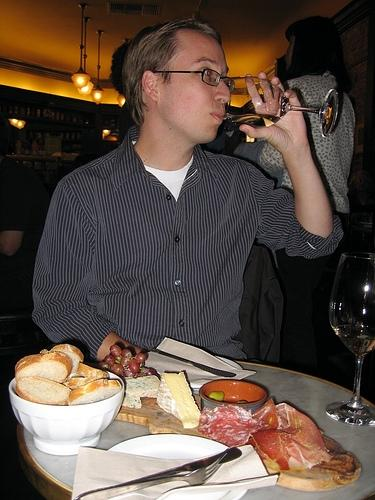grape: (128, 359, 140, 374), (104, 355, 116, 367), (110, 364, 123, 375), (111, 344, 122, 356), (120, 348, 132, 358), (120, 356, 131, 366), (98, 362, 110, 370), (144, 368, 156, 376), (135, 354, 146, 362), (123, 368, 132, 376)
